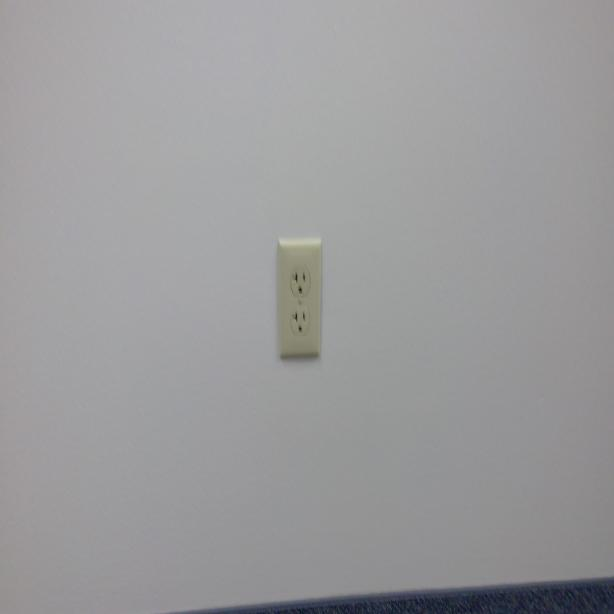typeb: (291, 267, 310, 298), (292, 308, 309, 336)
